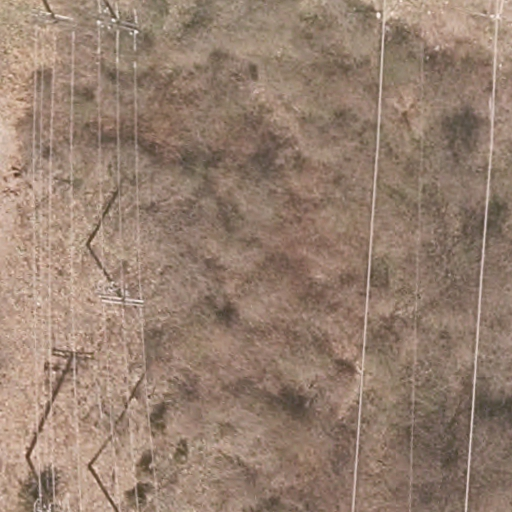DT: (22, 453, 56, 503), (86, 464, 120, 511), (94, 7, 140, 37), (97, 280, 144, 307), (31, 8, 76, 29)
